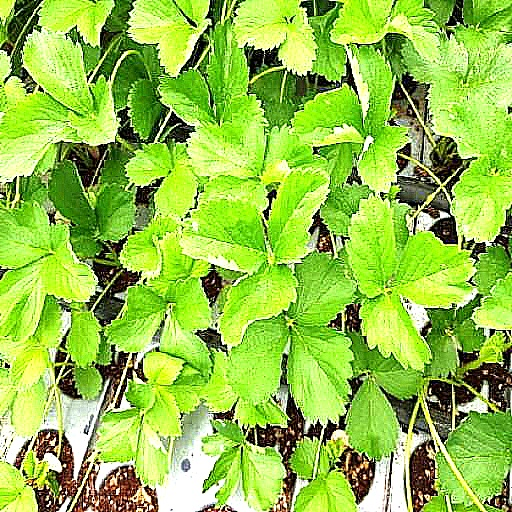Powdery Mildew Leaf: (178, 193, 269, 276), (40, 223, 99, 303), (118, 209, 183, 281), (356, 124, 413, 195), (199, 432, 242, 456)
